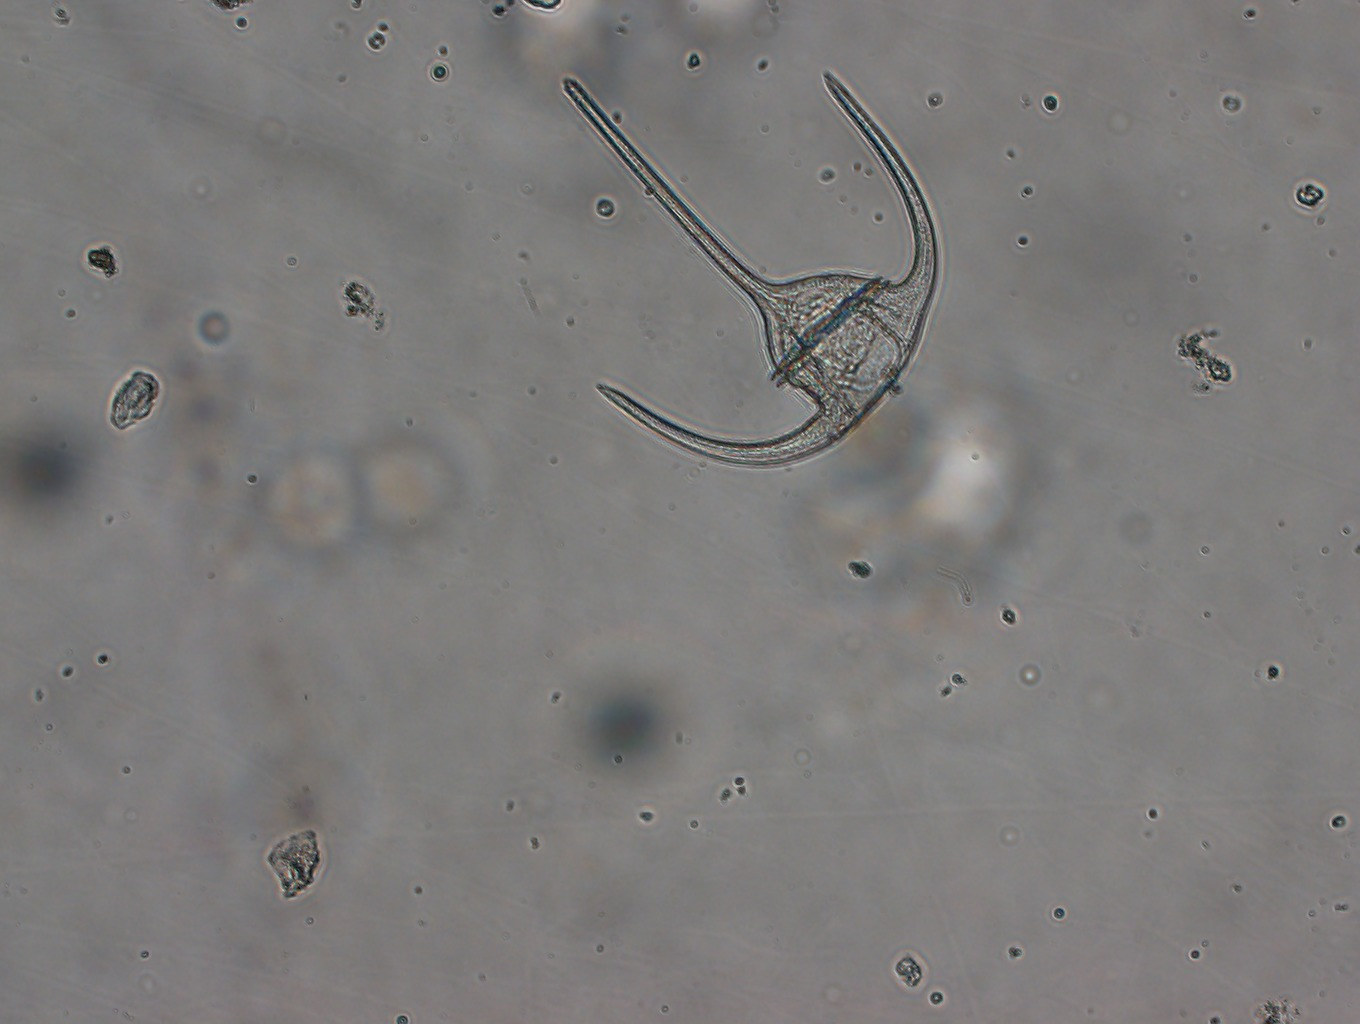ceratium tripos: (548, 68, 949, 475)
